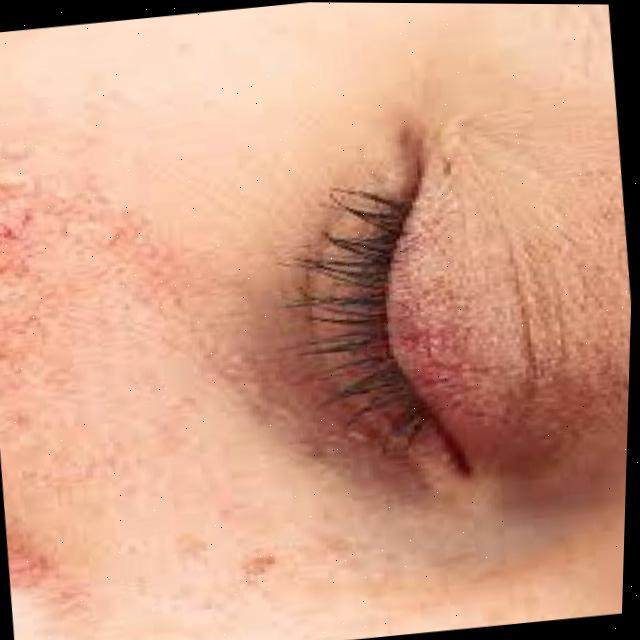Eczema: (0, 101, 614, 546)
